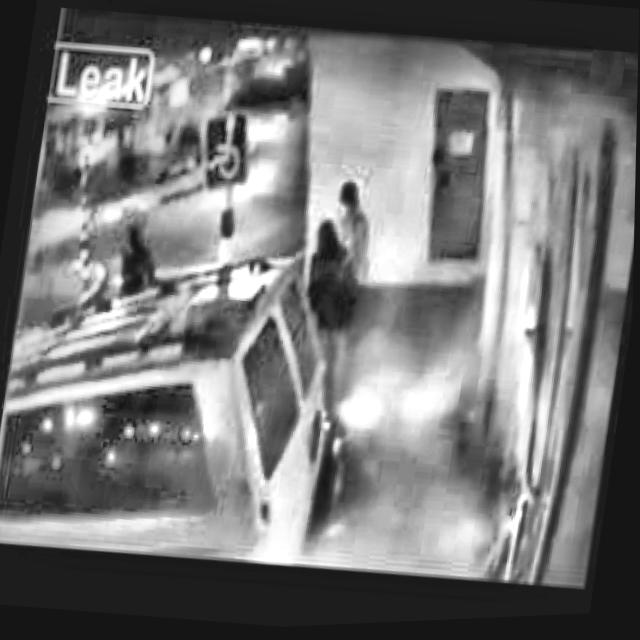burglary: (168, 155, 637, 607)
